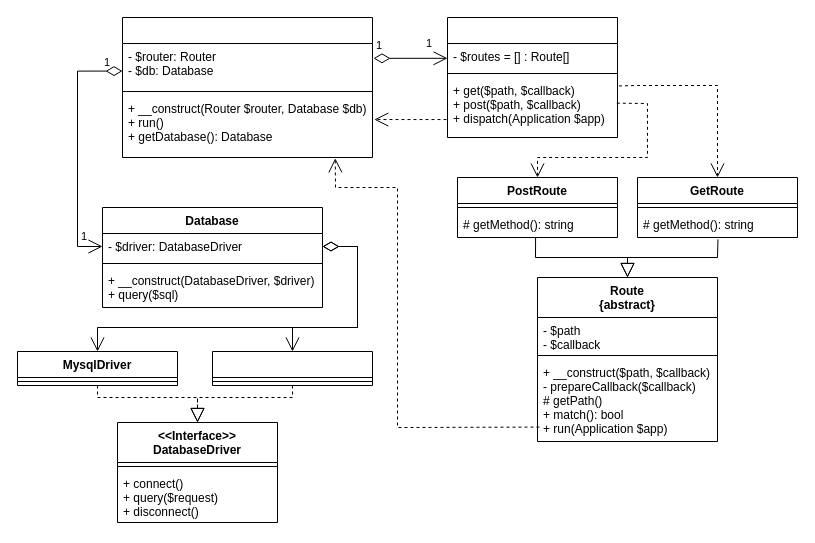
Image size: 815x543. Some labels were removed from this diagram. The box of each missing label's shape, as (x1, y1, x2, y2) in pixels:
Application: (122, 16, 372, 158)
ArrayDriver: (212, 350, 372, 386)
Router: (446, 16, 618, 138)
